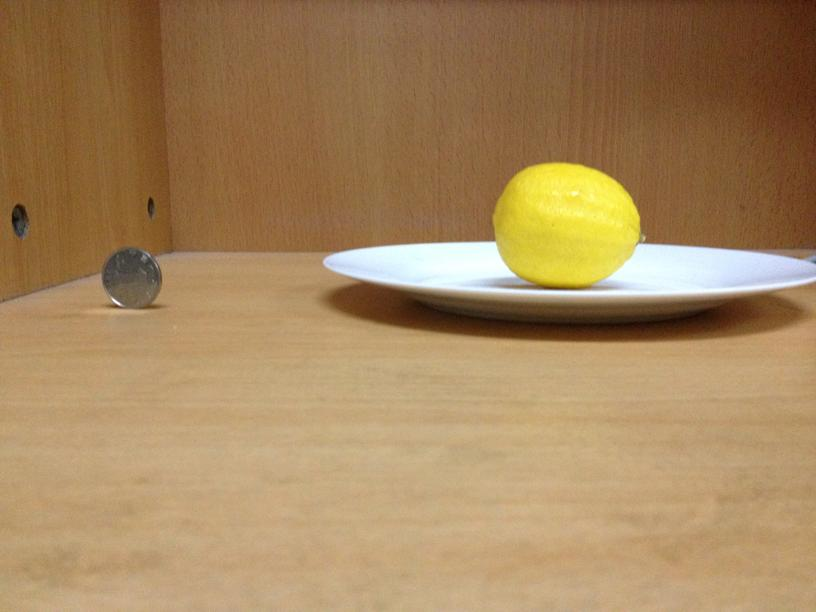coin: (101, 244, 161, 309)
lemon: (491, 161, 644, 286)
